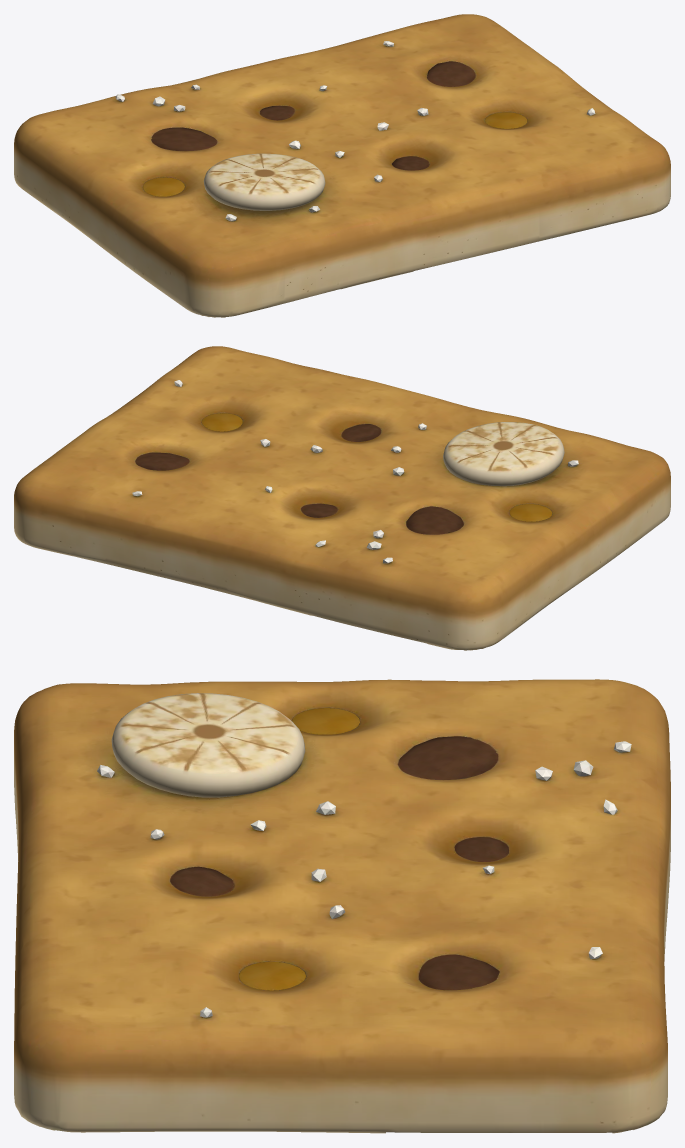
The model's file is focaccia--blackgarlic-crumble.glb.
3 renders of one model, top to bottom at view 1: azimuth 30°, elevation 25°; view 2: azimuth 150°, elevation 25°; view 3: azimuth 270°, elevation 25°, orthographic. The views are drawn at different scales.
Visible parts, largest first — view 1: focaccia_blackgarlic-crumble; view 2: focaccia_blackgarlic-crumble; view 3: focaccia_blackgarlic-crumble.
Boxes of the visible parts, x1=… form: focaccia_blackgarlic-crumble: x1=14, y1=14, x2=670, y2=317; focaccia_blackgarlic-crumble: x1=14, y1=346, x2=670, y2=650; focaccia_blackgarlic-crumble: x1=14, y1=679, x2=670, y2=1133.
Bounding box in the file's own units: 1.01 × 0.1625 × 0.7441.
Materials: 1 (1 with a texture image).
